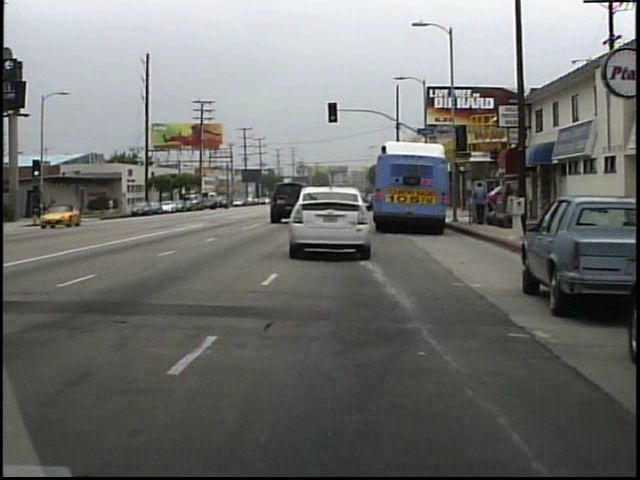person: (467, 180, 488, 228), (107, 194, 118, 217)
